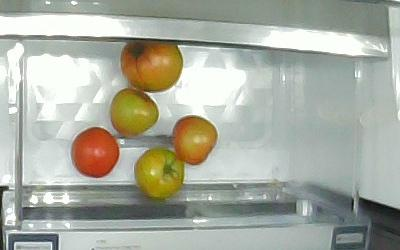tomato: (120, 41, 183, 93), (134, 147, 185, 198), (71, 126, 120, 178), (110, 88, 159, 138), (172, 116, 218, 166)
